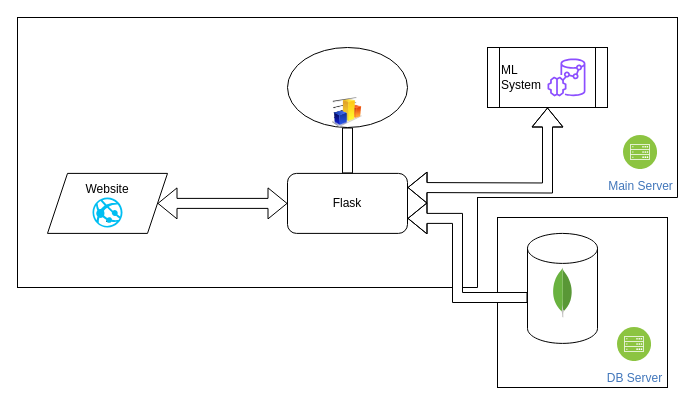
Some shapes in this 695 by 405 pixel diagram are drawn without their labels. Here are the shapes that lost their labels. From the top down, the box of each, then its label:
(286, 46, 408, 128): Plotly
(526, 232, 598, 343): MongoDB
